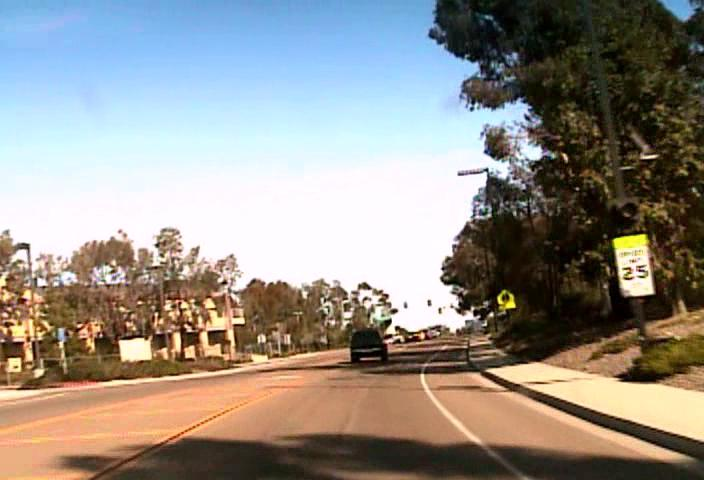schoolSpeedLimit25: (612, 233, 656, 297)
